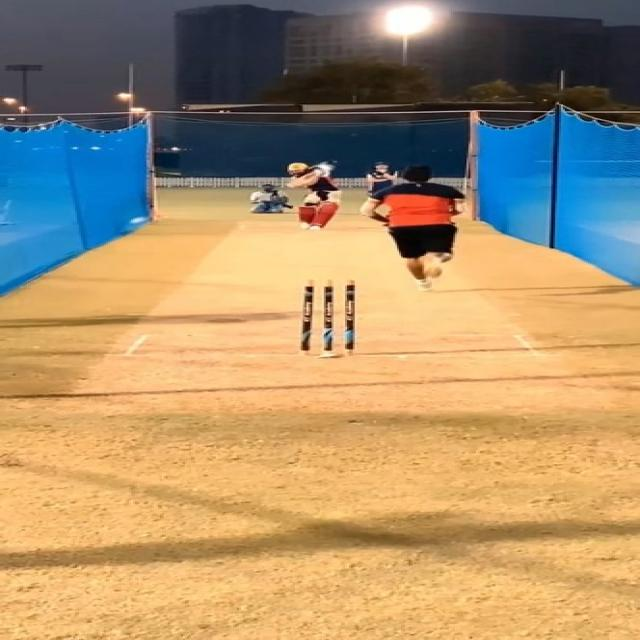batsman: (286, 161, 344, 231)
